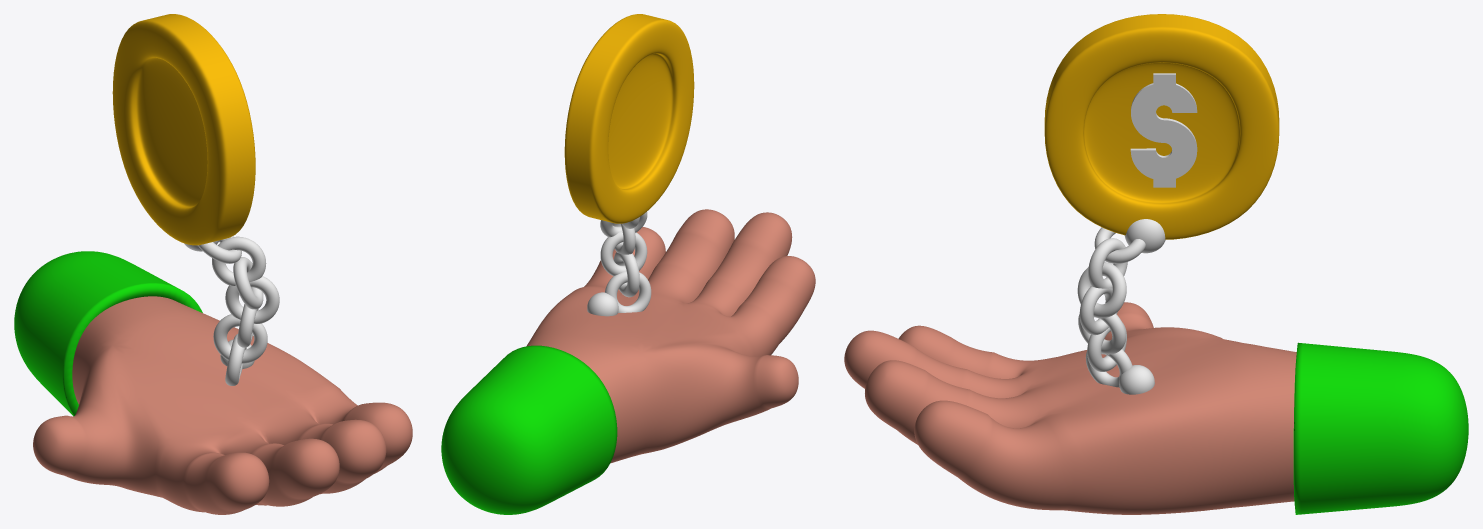
Rendered from obligation-6507814-0.fbx.
3 views of the same model, side by side, from view 1: azimuth 30°, elevation 25°; view 2: azimuth 150°, elevation 25°; view 3: azimuth 270°, elevation 25° (orthographic). The views are drawn at different scales.
Parts seen in each view (by area): view 1: Cube.004, Cube.001, Cube.008, BezierCircle.005, BezierCircle.009, BezierCircle.007, BezierCircle.006, BezierCircle.010, BezierCircle.004, BezierCircle.008; view 2: Cube.004, Cube.008, Cube.001, BezierCircle.008, BezierCircle.010, BezierCircle.009, Icosphere, BezierCircle.007; view 3: Cube.004, Cube.001, Cube.008, Text.006, BezierCircle.006, BezierCircle.005, BezierCircle.007, Cube, Icosphere, BezierCircle.008, BezierCircle.004, BezierCircle.009 (+1 smaller).
Boxes of the visible parts, left/top/right/bottom form: Cube.004: left=33, top=296, right=412, bottom=514; Cube.001: left=112, top=14, right=255, bottom=245; Cube.008: left=14, top=251, right=202, bottom=416; BezierCircle.005: left=212, top=236, right=266, bottom=285; BezierCircle.009: left=213, top=314, right=267, bottom=363; BezierCircle.007: left=225, top=276, right=279, bottom=323; BezierCircle.006: left=233, top=257, right=263, bottom=309; BezierCircle.010: left=225, top=334, right=246, bottom=385; BezierCircle.004: left=198, top=236, right=241, bottom=263; BezierCircle.008: left=237, top=304, right=258, bottom=347; Cube.004: left=526, top=209, right=815, bottom=463; Cube.008: left=441, top=345, right=617, bottom=514; Cube.001: left=564, top=14, right=694, bottom=223; BezierCircle.008: left=600, top=231, right=647, bottom=275; BezierCircle.010: left=605, top=271, right=651, bottom=312; BezierCircle.009: left=613, top=252, right=639, bottom=297; Icosphere: left=587, top=292, right=618, bottom=316; BezierCircle.007: left=612, top=223, right=635, bottom=254; Cube.004: left=844, top=302, right=1296, bottom=514; Cube.001: left=1044, top=14, right=1279, bottom=239; Cube.008: left=1293, top=342, right=1468, bottom=514; Text.006: left=1130, top=73, right=1197, bottom=187; BezierCircle.006: left=1077, top=262, right=1126, bottom=318; BezierCircle.005: left=1088, top=238, right=1127, bottom=288; BezierCircle.007: left=1079, top=286, right=1117, bottom=335; Cube: left=1124, top=219, right=1165, bottom=253; Icosphere: left=1119, top=365, right=1154, bottom=394; BezierCircle.008: left=1078, top=304, right=1125, bottom=354; BezierCircle.004: left=1094, top=227, right=1145, bottom=263; BezierCircle.009: left=1087, top=323, right=1126, bottom=371.
Bounding box in the file's own units: 396 × 607 × 722.
